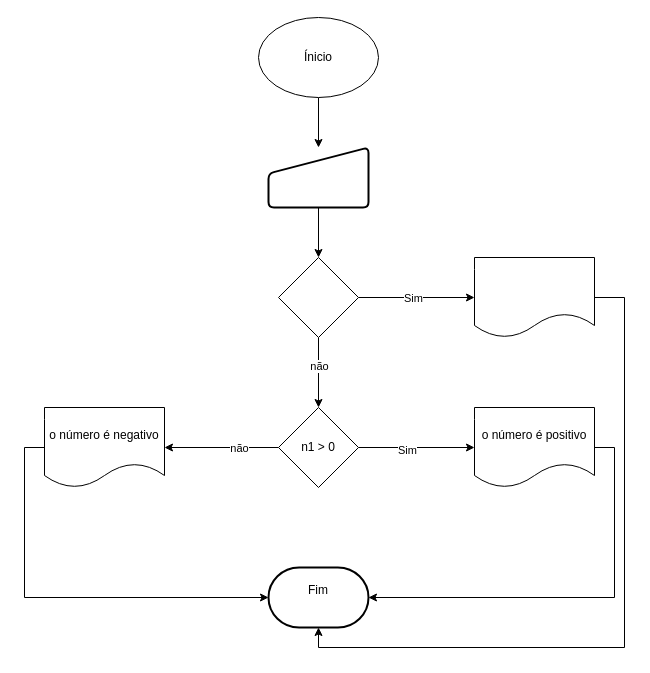
This 650x673 diagram has some shape labels left out. Here are the shapes that lost their labels. From the top down, the centre of each, then its label:
point 318,177: n1
point 318,297: n1 = 0
point 534,297: o número é neutro
